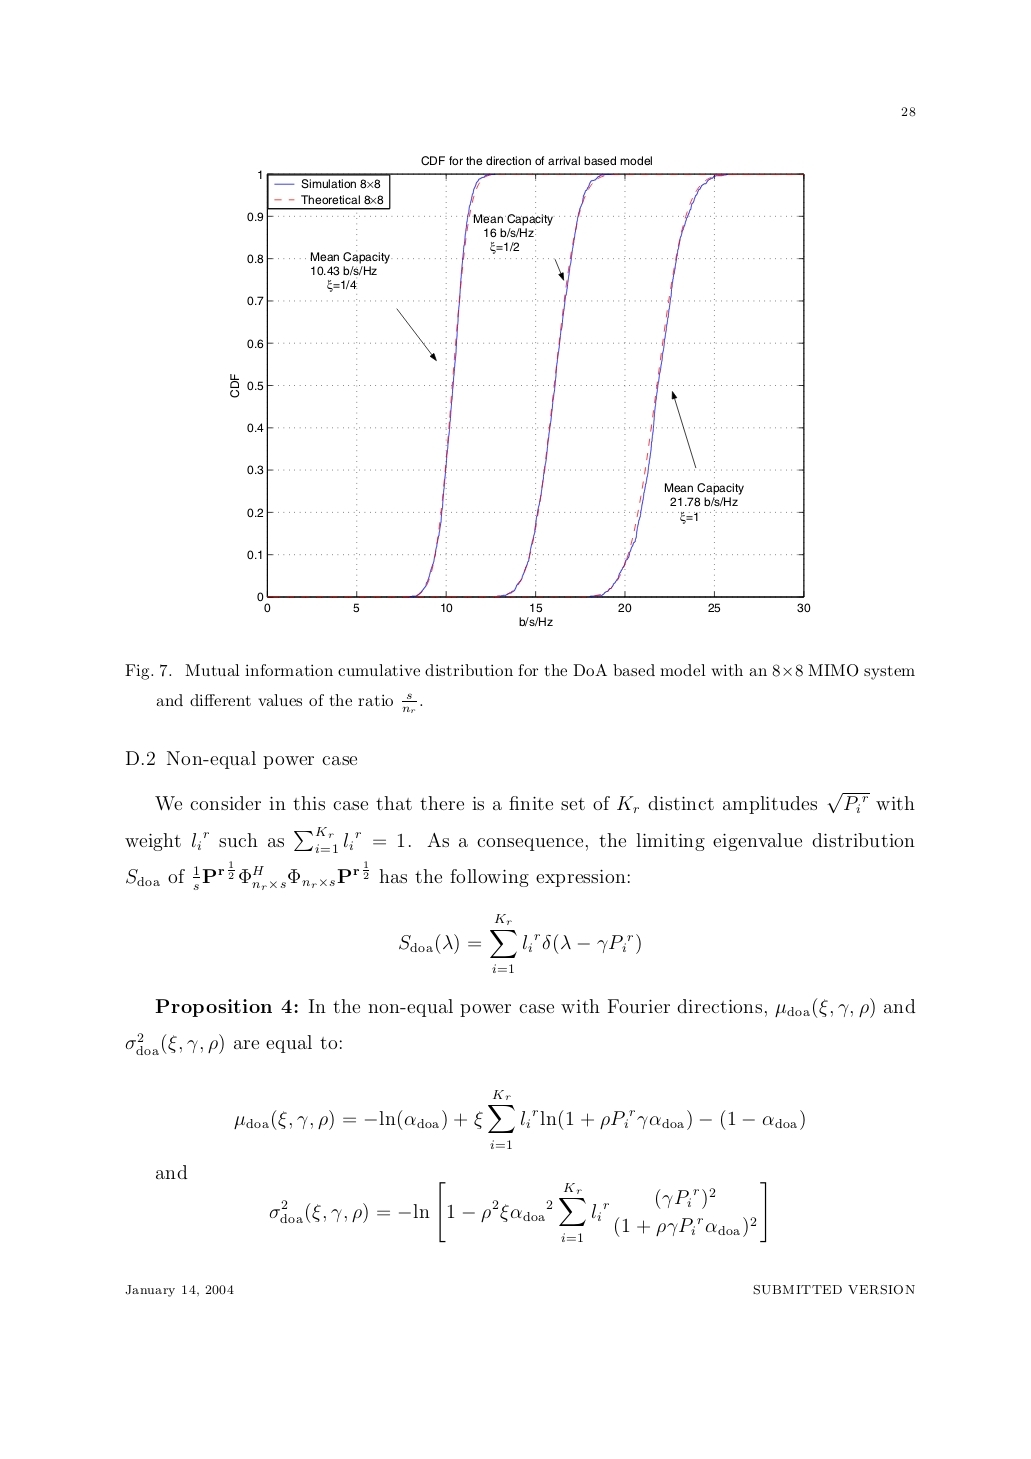figure: (230, 170, 810, 626)
formula: (234, 1090, 804, 1148), (269, 1182, 767, 1241), (399, 914, 640, 972)
